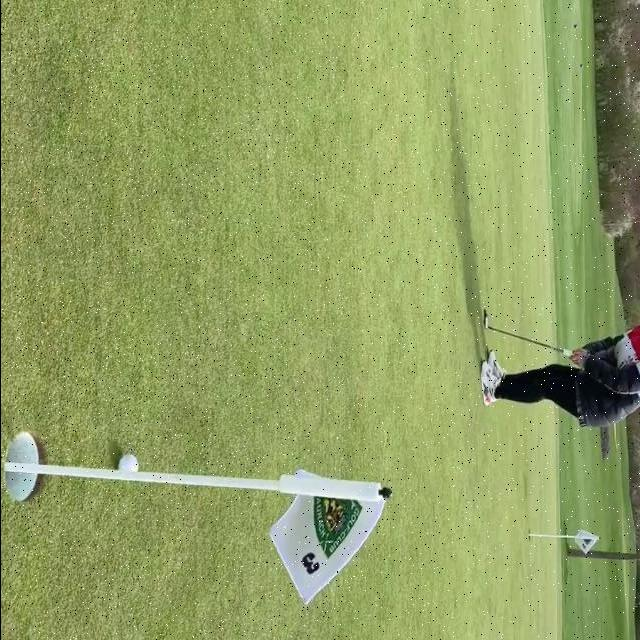golf ball: (117, 454, 137, 473)
golf club-handle: (481, 307, 578, 359)
golf club-head: (483, 309, 488, 331)
